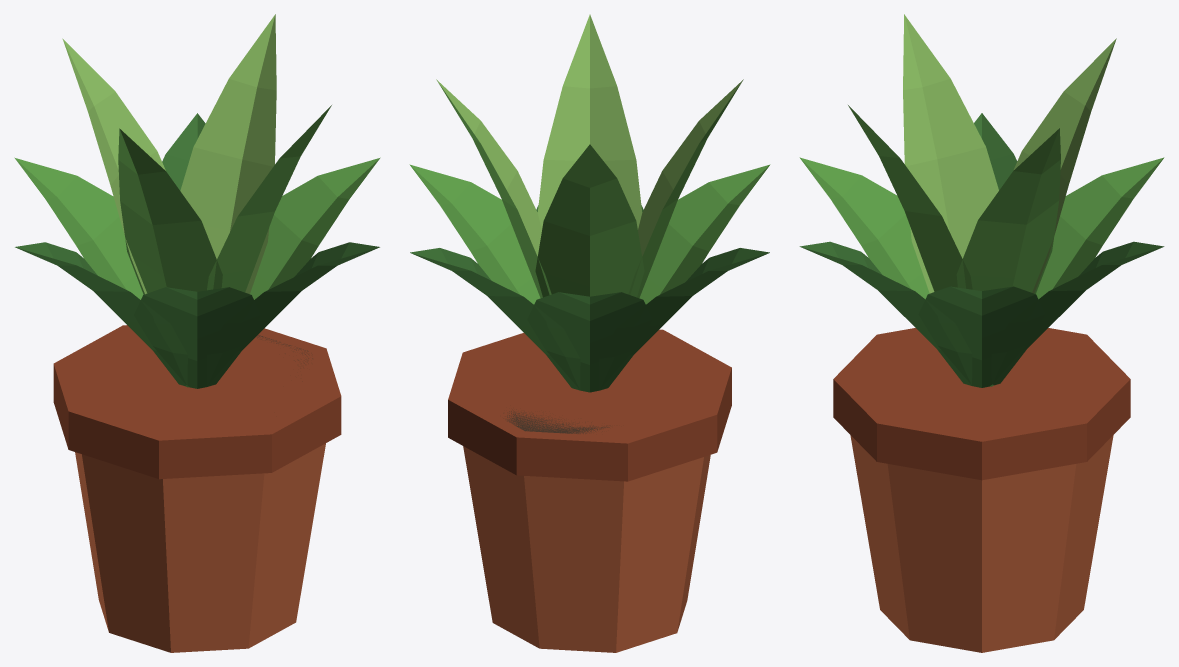
File: plant_pot.glb
3 renders of one model, left to right at view 1: azimuth 30°, elevation 25°; view 2: azimuth 150°, elevation 25°; view 3: azimuth 270°, elevation 25°, orthographic.
Parts seen in each view (by area): view 1: plant_pot; view 2: plant_pot; view 3: plant_pot.
Part boxes in pixels (x1,y1,x2,y2): plant_pot: [14, 14, 380, 652]; plant_pot: [409, 14, 770, 652]; plant_pot: [799, 14, 1164, 652].
Bounding box in the file's own units: 0.497 × 0.7003 × 0.4304.
Materials: 1 (1 with a texture image).
